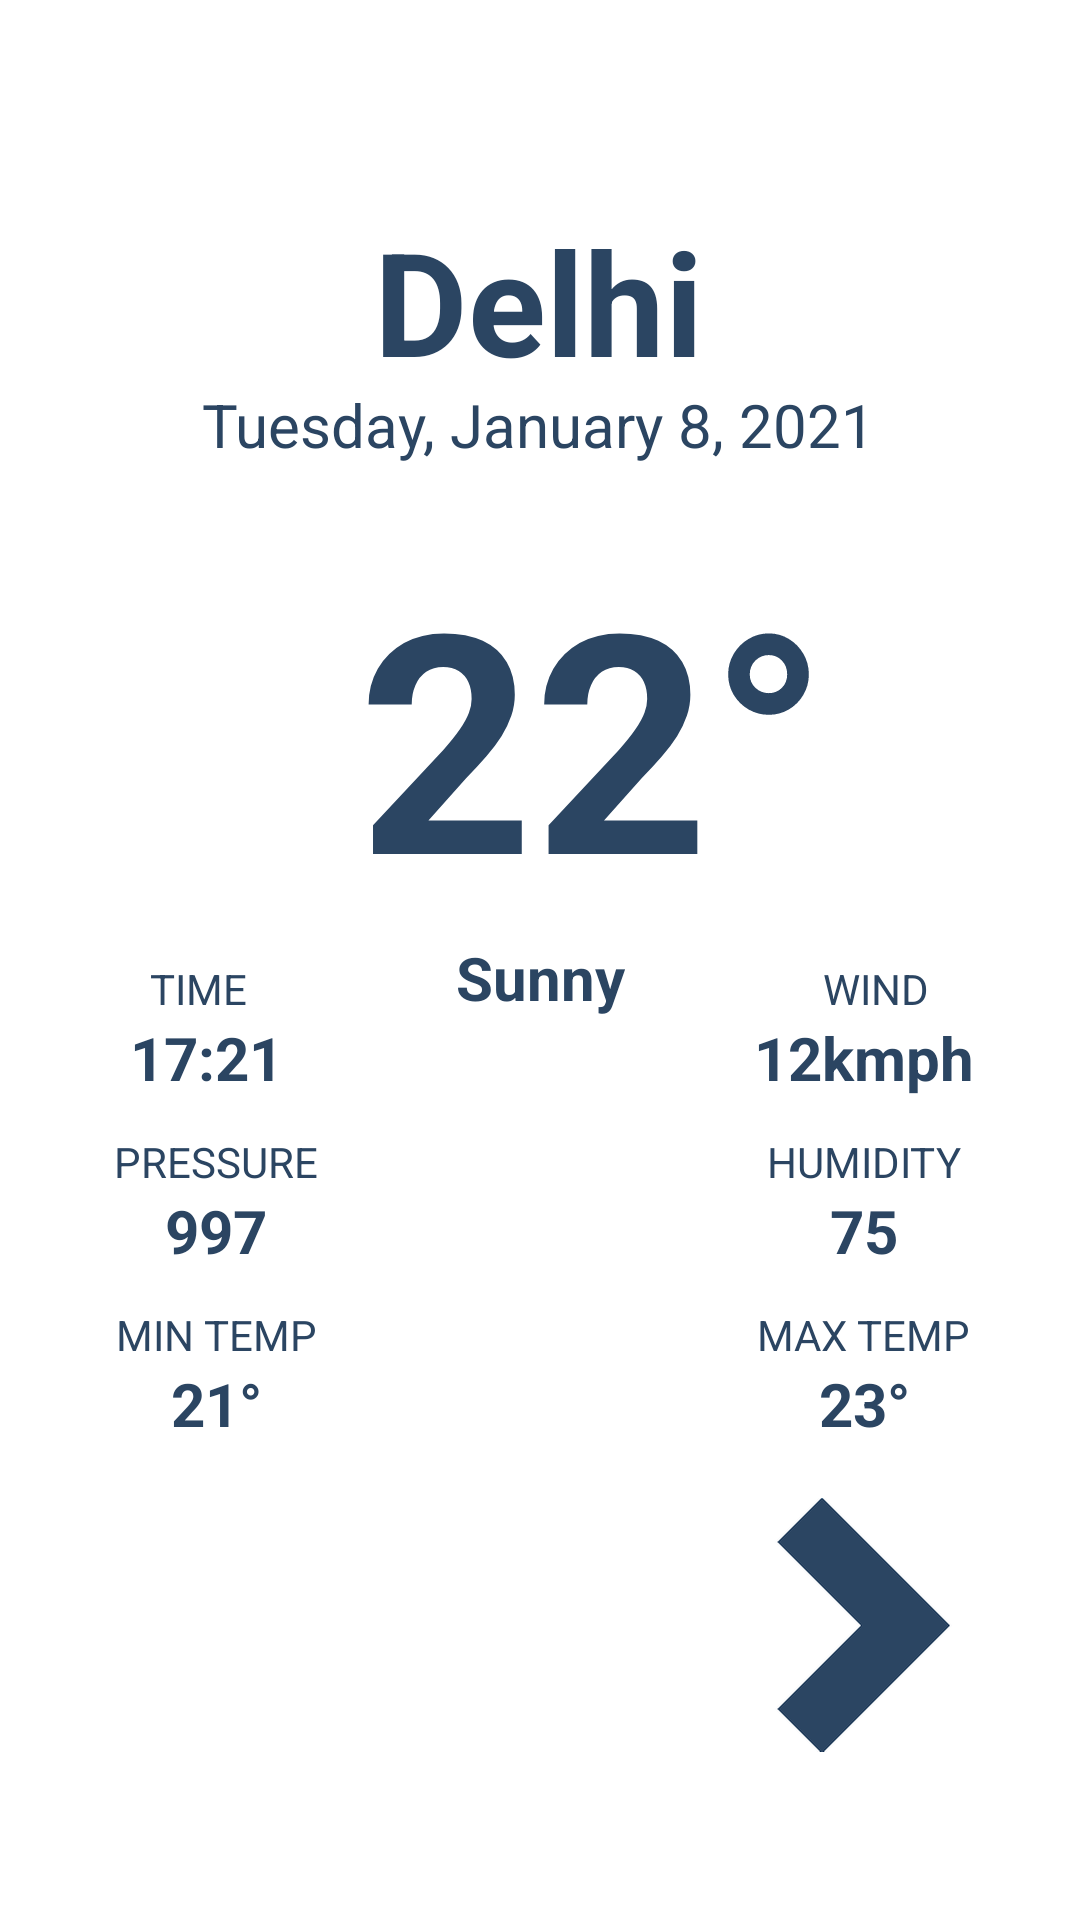

Screen size 1080w x 1920h. Icon name, then its center in pixels as [x,y]:
rightarrowb: [863,1625]
